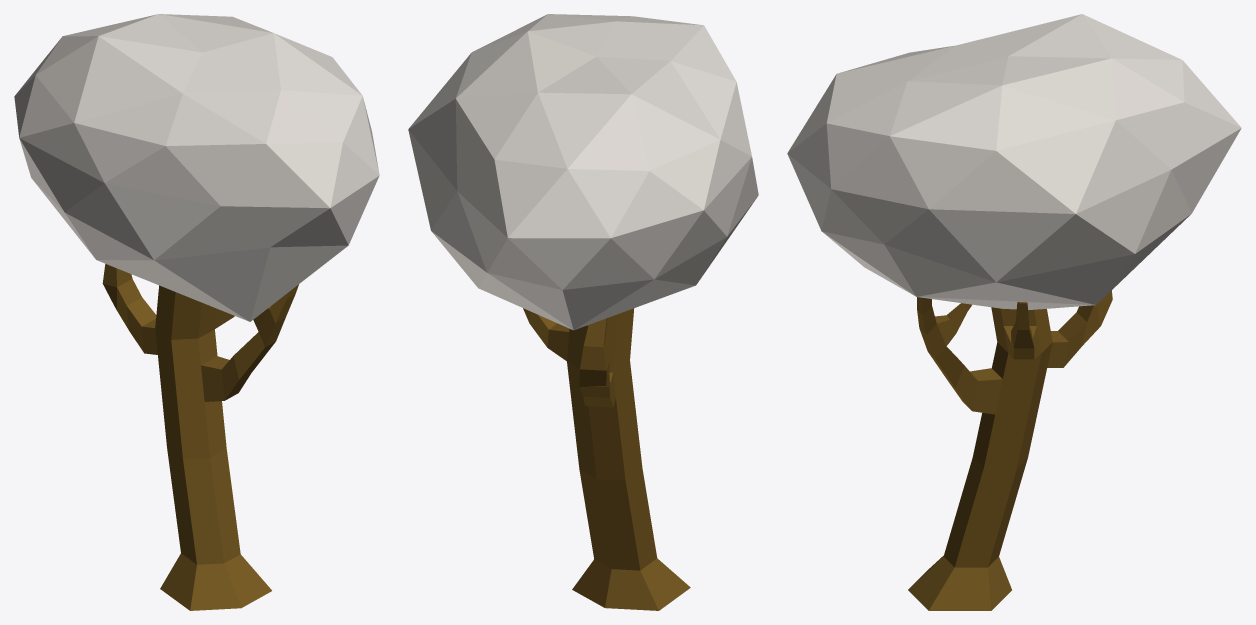
The model's file is snow_tree_4.fbx.
The picture shows the model from 3 angles, left to right: view 1: azimuth 30°, elevation 25°; view 2: azimuth 150°, elevation 25°; view 3: azimuth 270°, elevation 25°; orthographic projection. The views are drawn at different scales.
Parts seen in each view (by area): view 1: Icosphere.268; view 2: Icosphere.268; view 3: Icosphere.268.
Part boxes in pixels (box(x1,y1,x2,y2)): Icosphere.268: box(14, 14, 379, 610); Icosphere.268: box(408, 14, 758, 610); Icosphere.268: box(787, 14, 1241, 610).
Bounding box in the file's own units: 793 × 1380 × 1041.
